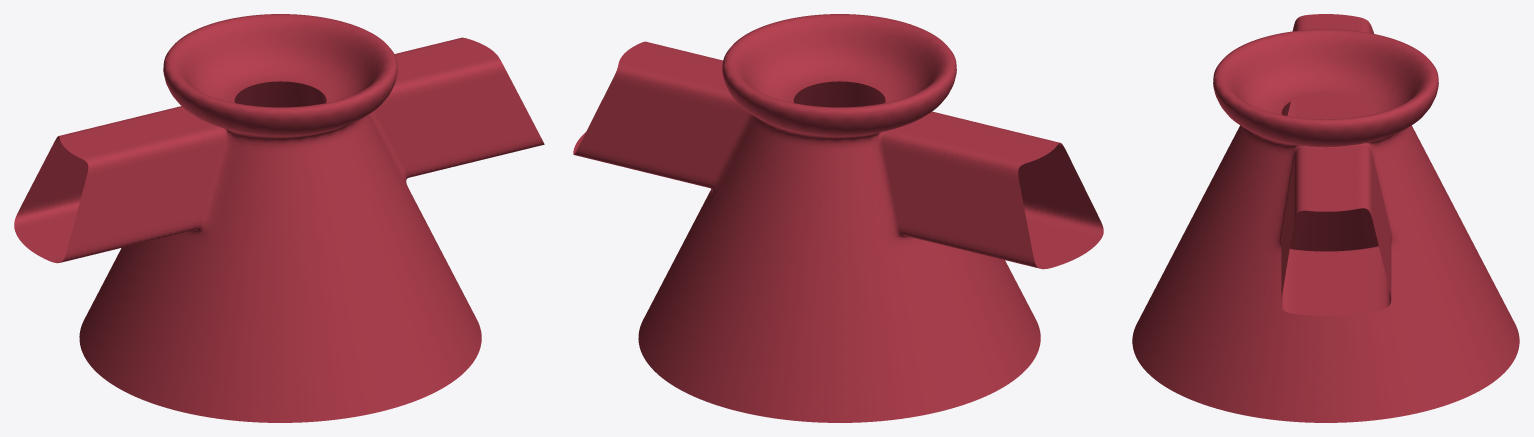
Rendered from Cloth-einzeln-subdivision.fbx.
3 renders of one model, left to right at view 1: azimuth 30°, elevation 25°; view 2: azimuth 150°, elevation 25°; view 3: azimuth 270°, elevation 25°, orthographic. The views are drawn at different scales.
Parts seen in each view (by area): view 1: cloth; view 2: cloth; view 3: cloth.
Part boxes in pixels (box(x1,y1,x2,y2)): cloth: box(14, 14, 544, 422); cloth: box(573, 14, 1103, 422); cloth: box(1132, 14, 1519, 422).
Bounding box in the file's own units: 99.72 × 52.75 × 69.56.
